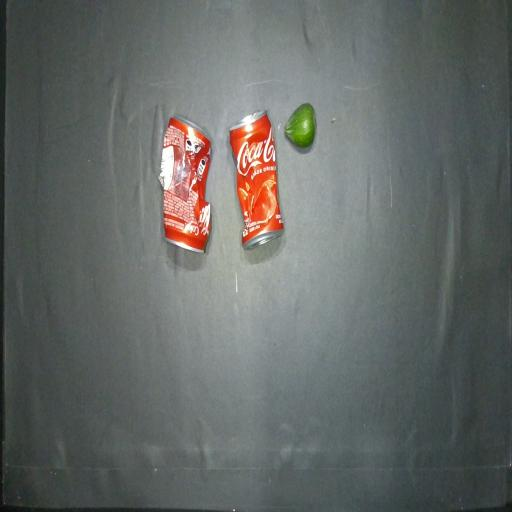higo: (285, 103, 316, 148)
lata_defectuoso: (229, 111, 284, 249), (159, 116, 212, 252)
